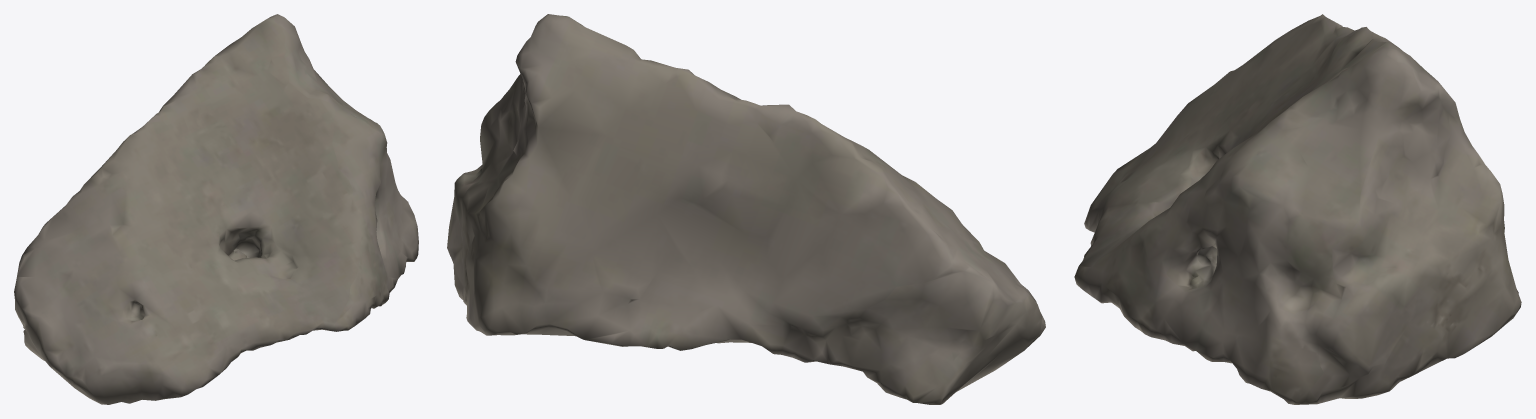
Rendered from moon_rock_07.glb.
3 views of the same model, side by side, from view 1: azimuth 30°, elevation 25°; view 2: azimuth 150°, elevation 25°; view 3: azimuth 270°, elevation 25° (orthographic). The views are drawn at different scales.
Visible parts, largest first — view 1: moon_rock_07_LOD0; view 2: moon_rock_07_LOD0; view 3: moon_rock_07_LOD0.
Boxes of the visible parts, x1,y1,x2,y2 form: moon_rock_07_LOD0: [14, 14, 418, 404]; moon_rock_07_LOD0: [447, 14, 1045, 404]; moon_rock_07_LOD0: [1074, 14, 1521, 404].
Size of the model in its own units: 0.0968 by 0.0603 by 0.0738.
1 material, 1 textured.
